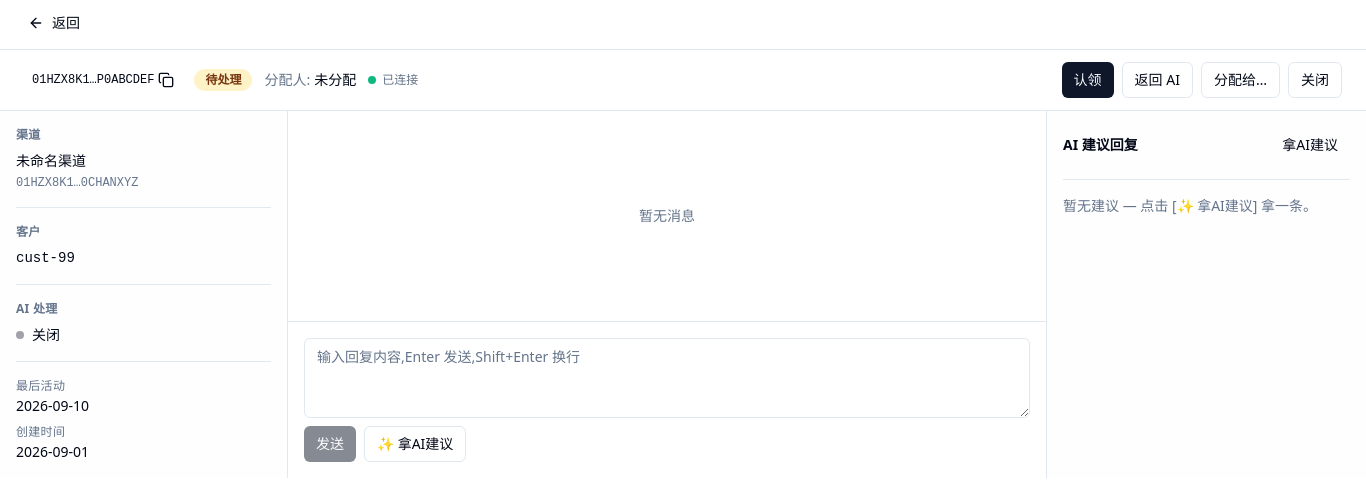
Test: InboxDetailPage › admin role sees the reassign control; opening it loads the tenant roster
This screenshot has width=1366, height=495.
What coordinates should you click on to do the following:
click the button with test id "action-reassign-toggle"
I would click on:
 (1240, 80)
Its box is [1201, 62, 1280, 98].
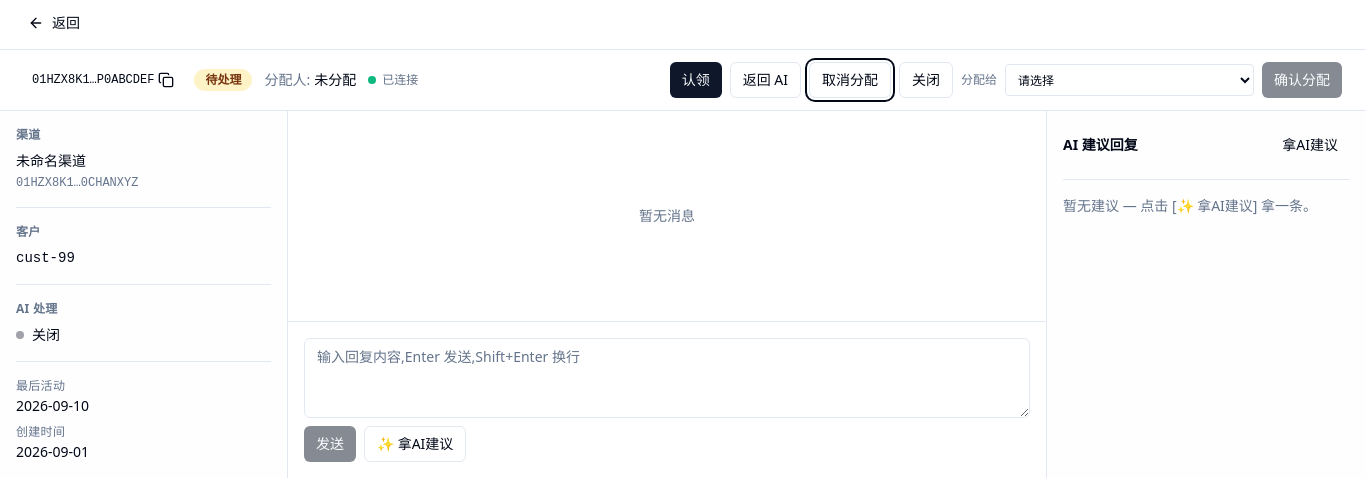
Now the dropdown with test id "reassign-select" is shown, box [1005, 64, 1254, 96]
